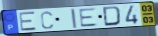4: (124, 4, 140, 25)
C: (39, 11, 55, 31)
D: (102, 5, 123, 27)
E: (78, 7, 100, 28), (18, 11, 38, 32)
I: (70, 8, 78, 29)
